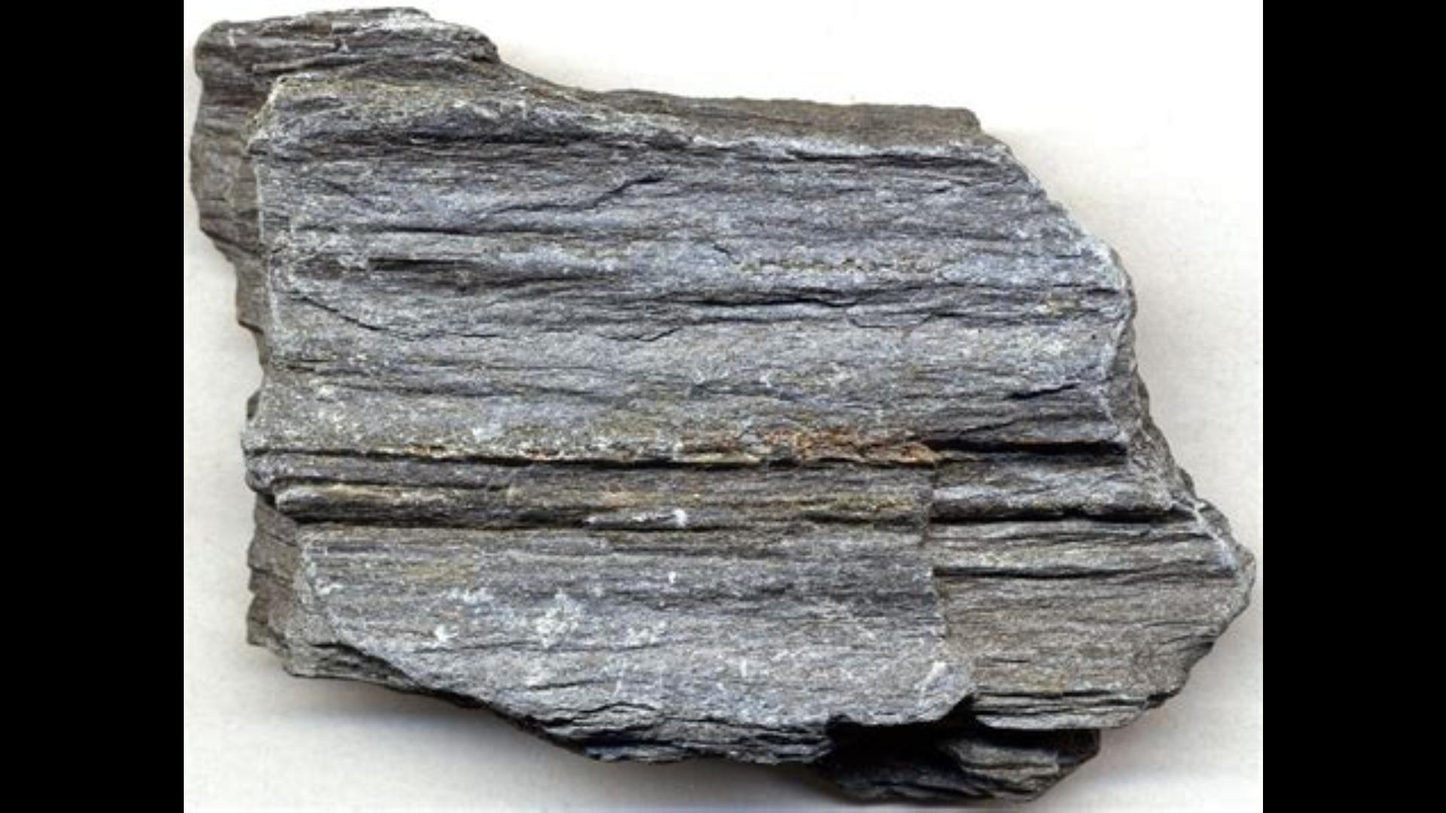rock: (192, 9, 1242, 793)
